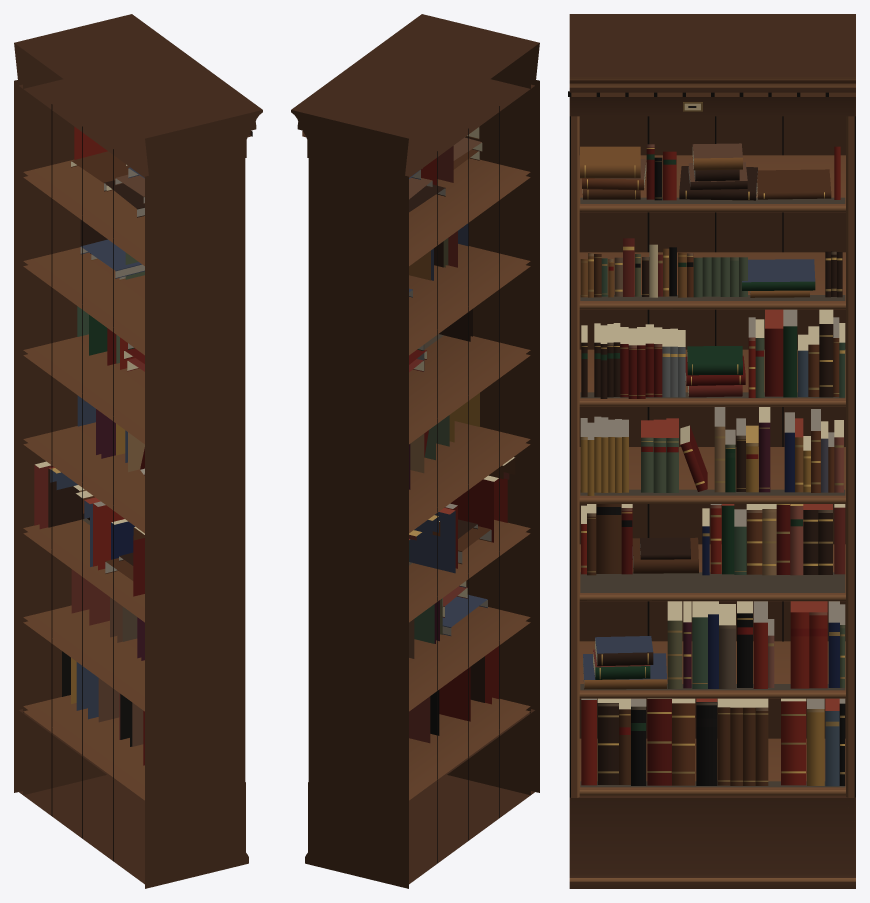
Rendered from bookcase_aisle_b@1.glb.
3 views of the same model, side by side, from view 1: azimuth 30°, elevation 25°; view 2: azimuth 150°, elevation 25°; view 3: azimuth 270°, elevation 25° (orthographic). The views are drawn at different scales.
Visible parts, largest first — view 1: regal; view 2: regal; view 3: regal.
Boxes of the visible parts, bbox=[...] form: regal: bbox=[14, 14, 262, 888]; regal: bbox=[291, 14, 539, 888]; regal: bbox=[568, 14, 855, 888].
Size of the model in its own units: 0.52 by 3.16 by 1.01.
